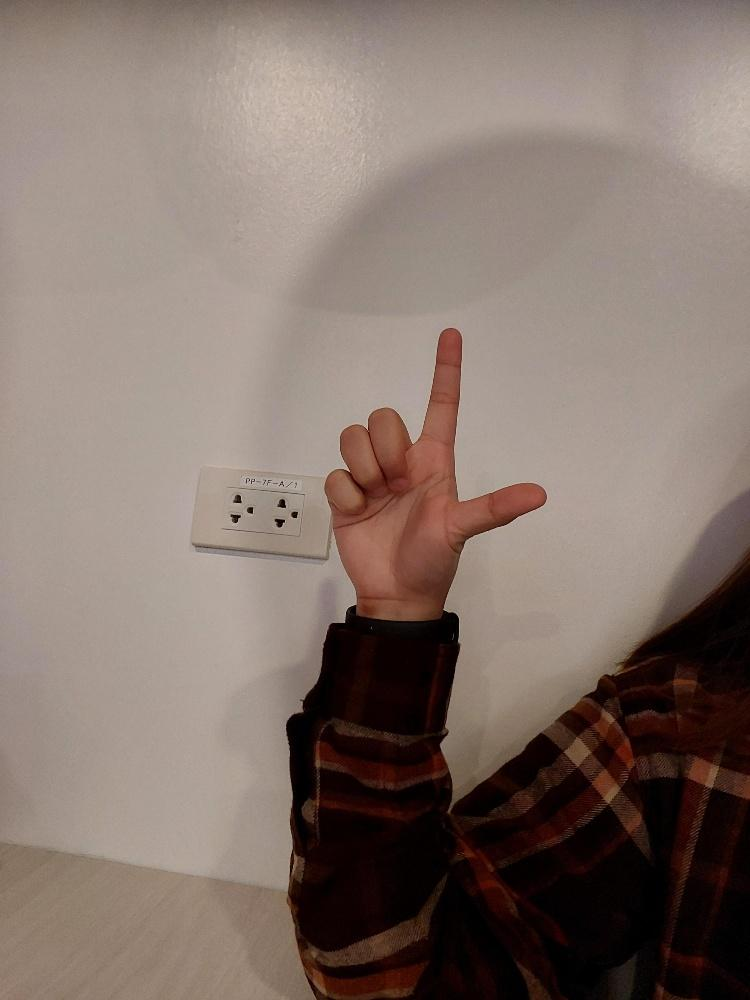l: (320, 321, 550, 609)
